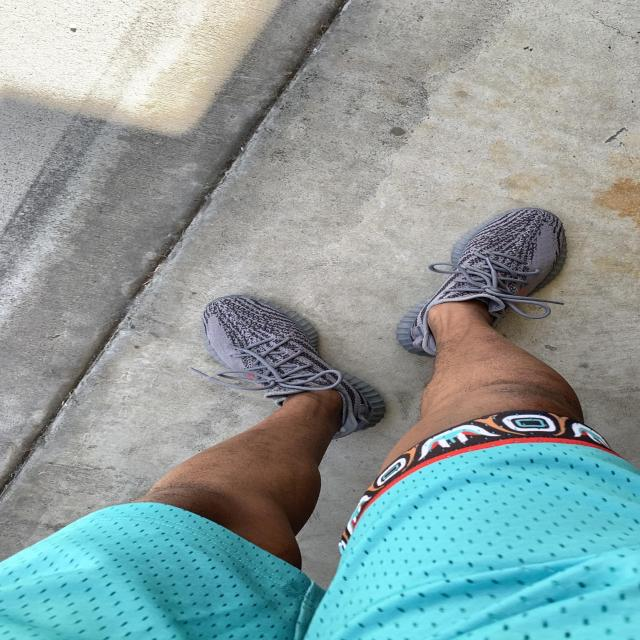shoe: (371, 201, 590, 365), (188, 287, 398, 439)
